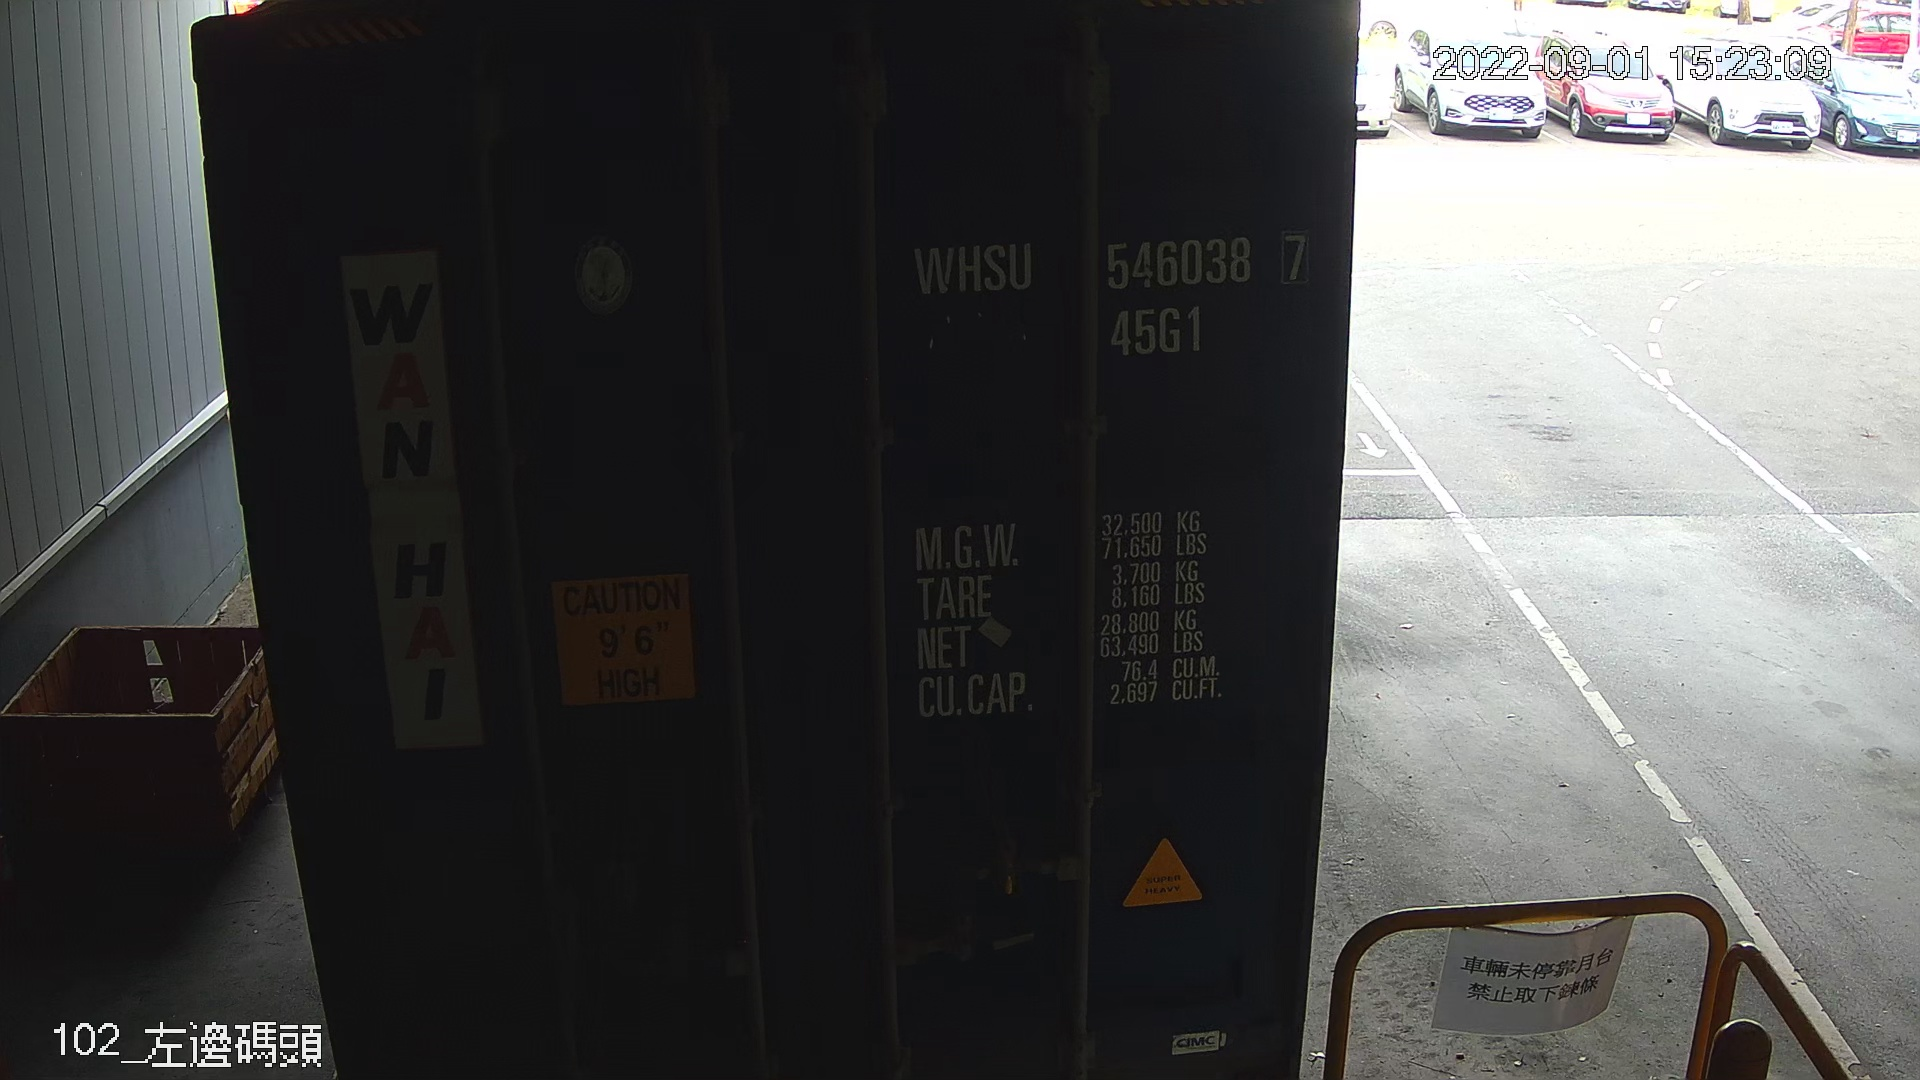container: (891, 219, 1325, 369)
